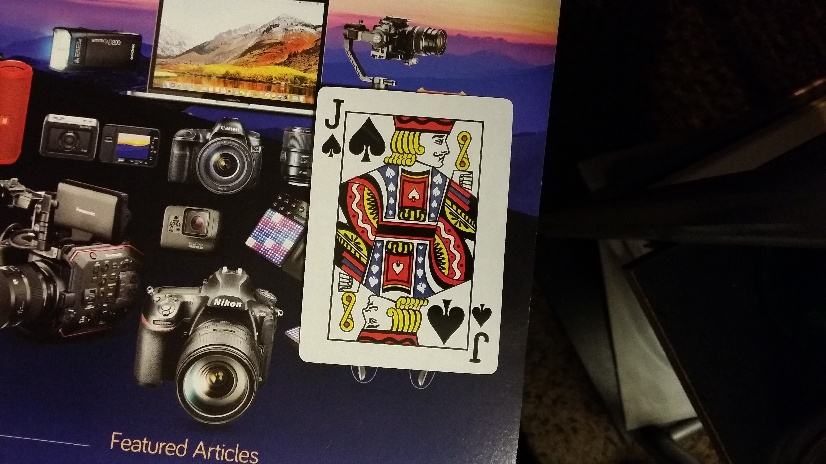Sj: (318, 95, 345, 161), (471, 301, 493, 367)
